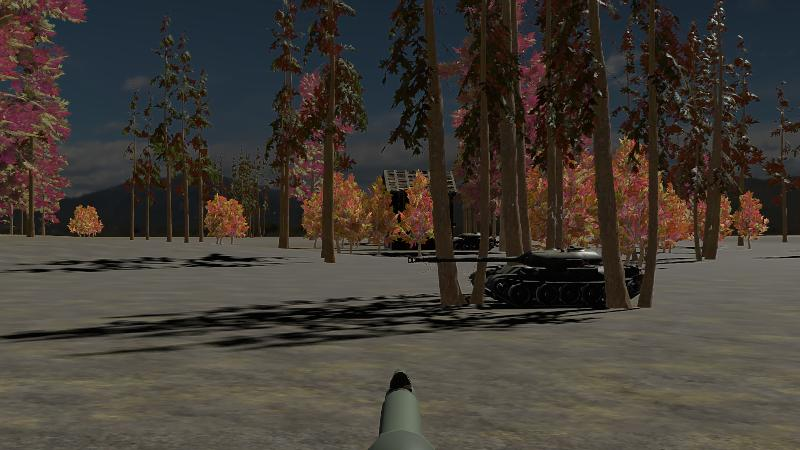Tank: (406, 244, 649, 311), (447, 229, 502, 253)
